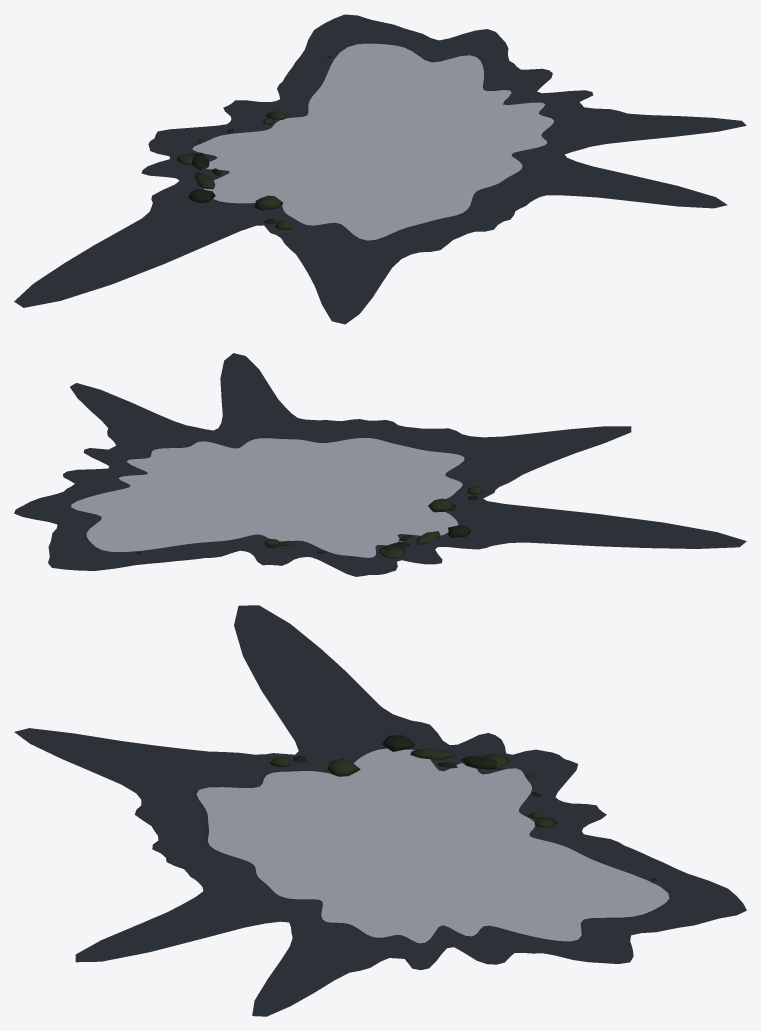
Rendered from SM_Cripta_Poca_C.glb.
The picture shows the model from 3 angles, top to bottom: view 1: azimuth 30°, elevation 25°; view 2: azimuth 150°, elevation 25°; view 3: azimuth 270°, elevation 25°; orthographic projection. The views are drawn at different scales.
Visible parts, largest first — view 1: Anel, Agua, Limo; view 2: Anel, Agua, Limo; view 3: Anel, Agua, Limo.
Part boxes in pixels (x1,y1,x2,y2): Anel: [14, 14, 746, 324]; Agua: [190, 42, 556, 241]; Limo: [176, 56, 332, 229]; Anel: [14, 353, 746, 576]; Agua: [68, 437, 467, 558]; Limo: [136, 486, 483, 559]; Anel: [14, 605, 746, 1016]; Agua: [194, 747, 672, 944]; Limo: [270, 735, 657, 880].
Bounding box in the file's own units: 3.23 × 0.0298 × 2.43.
